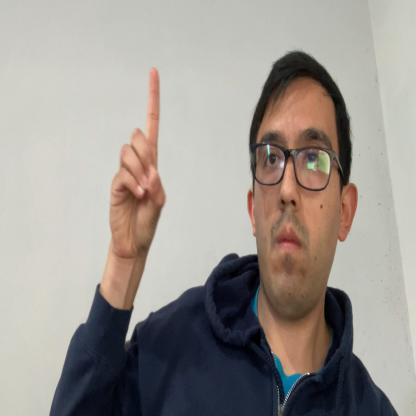D: (109, 68, 166, 256)
